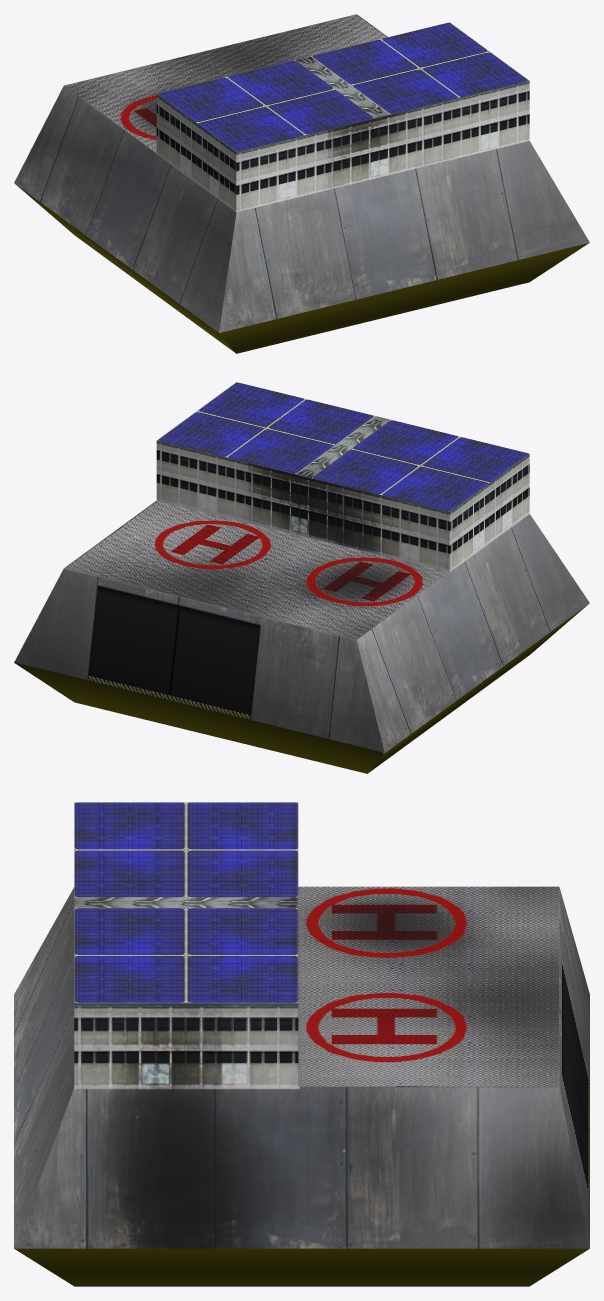
File: baseTowerB.fbx
The picture shows the model from 3 angles, top to bottom: view 1: azimuth 30°, elevation 25°; view 2: azimuth 150°, elevation 25°; view 3: azimuth 270°, elevation 25°; orthographic projection. The views are drawn at different scales.
Parts seen in each view (by area): view 1: pCube1; view 2: pCube1; view 3: pCube1.
Boxes of the visible parts, x1,y1,x2,y2 form: pCube1: [14, 14, 589, 353]; pCube1: [14, 382, 589, 773]; pCube1: [14, 802, 589, 1286].
Size of the model in its own units: 31.35 by 16.29 by 30.02.
Materials: 1 (1 with a texture image).
